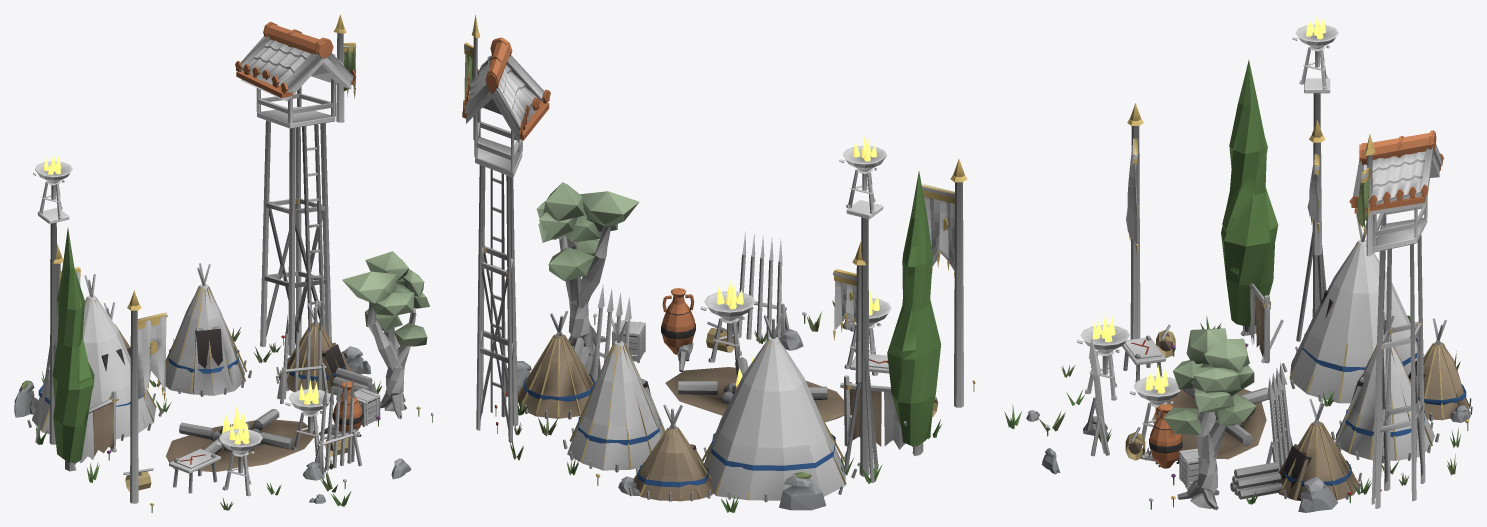
The model's file is scout-camp-l3.glb.
The picture shows the model from 3 angles, left to right: view 1: azimuth 30°, elevation 25°; view 2: azimuth 150°, elevation 25°; view 3: azimuth 270°, elevation 25°; orthographic projection. The views are drawn at different scales.
Visible parts, largest first — view 1: scout-camp-l3; view 2: scout-camp-l3; view 3: scout-camp-l3.
Boxes of the visible parts, <box> form: scout-camp-l3: <box>14,14,433,512</box>; scout-camp-l3: <box>462,15,975,512</box>; scout-camp-l3: <box>1004,14,1472,512</box>.
Bounding box in the file's own units: 1.52 × 1.41 × 1.56.
